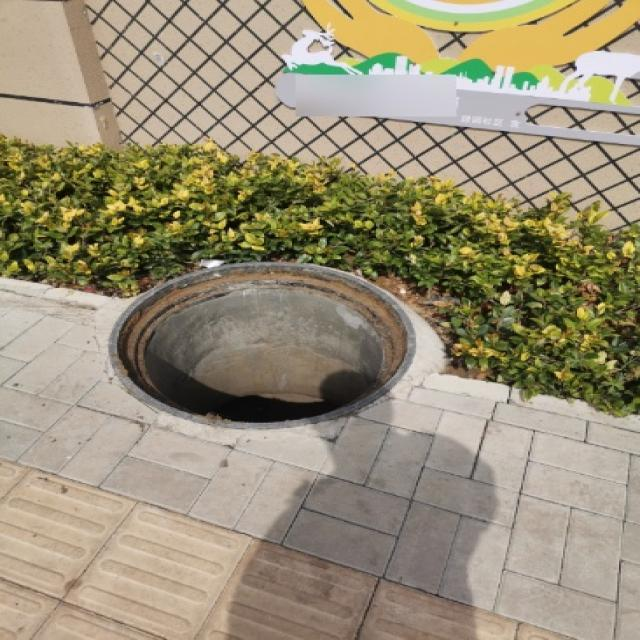Faulty: (94, 255, 450, 432)
